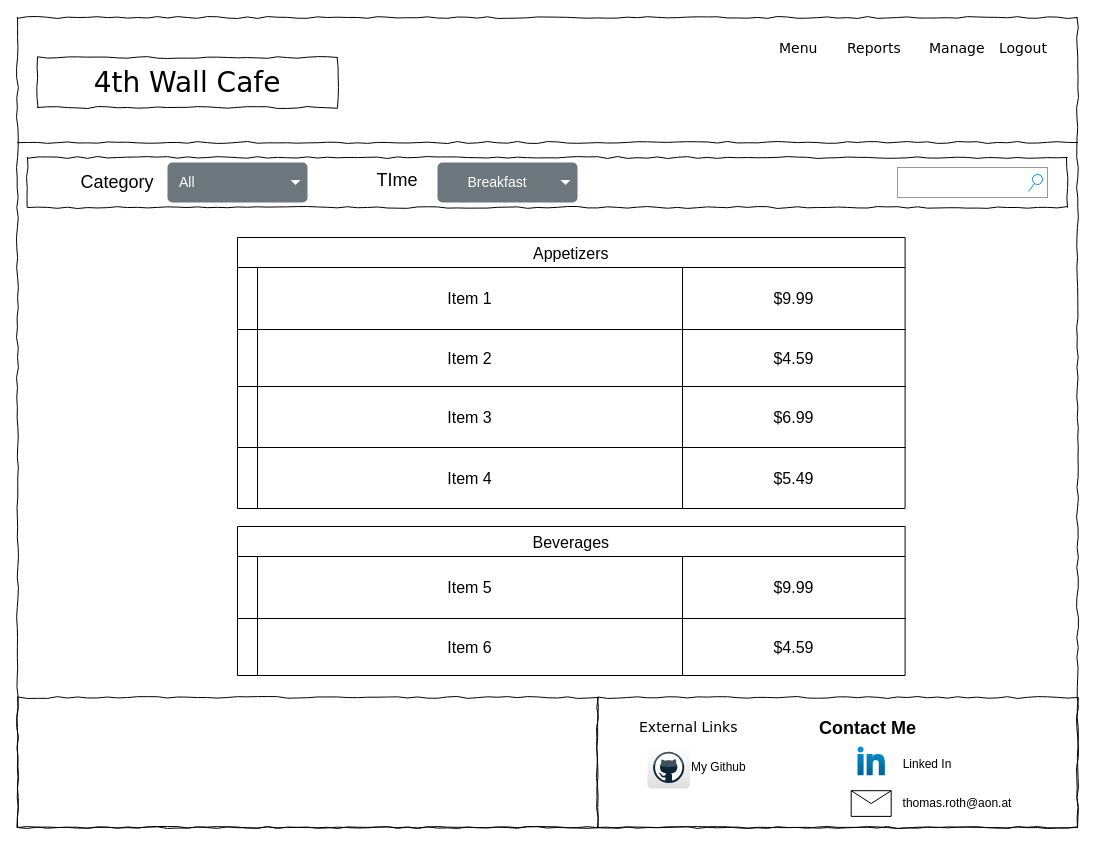
The diagram is 1095 pixels wide and 845 high, and some of its shapes have lost their labels. Here are the shapes that lost their labels. From the top down, the centre of each, then its label:
At point (972, 182): "Search".
At point (307, 762): "by Thomas Roth".
